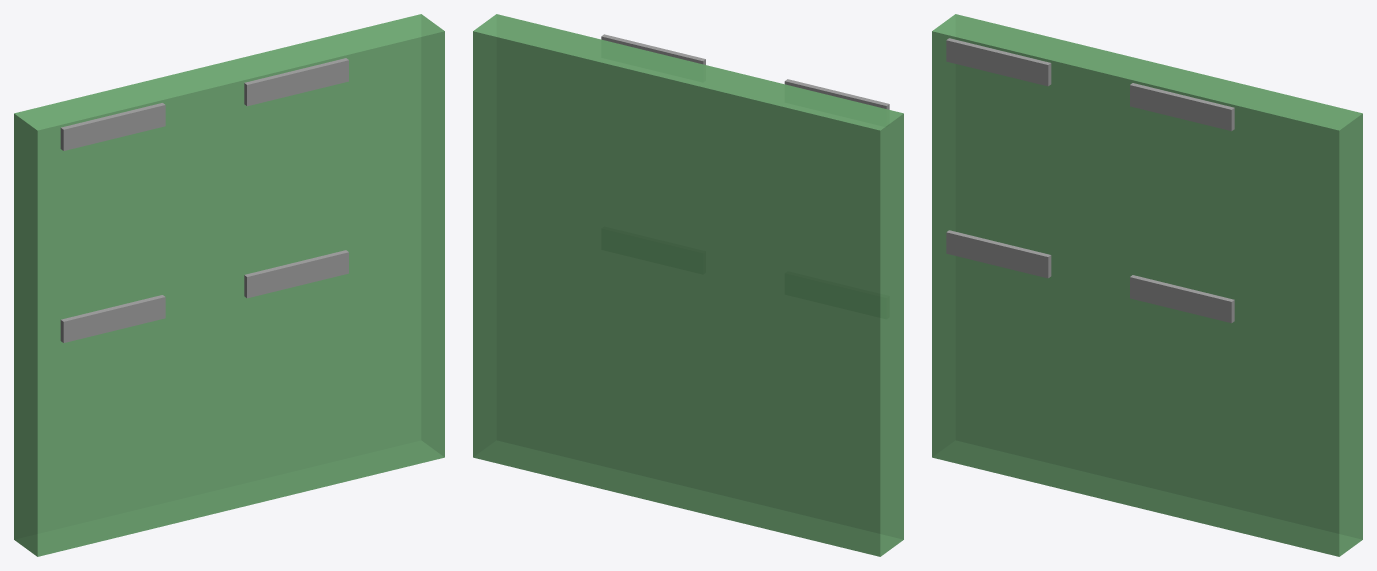
File: board.glb
3 renders of one model, left to right at view 1: azimuth 30°, elevation 25°; view 2: azimuth 150°, elevation 25°; view 3: azimuth 330°, elevation 25°, orthographic.
Parts seen in each view (by area): view 1: Substrate_Layer_0, Component_R1, Component_R3, Component_R4, Component_R2; view 2: Substrate_Layer_0, Component_R1, Component_R2; view 3: Substrate_Layer_0, Component_R1, Component_R3, Component_R2, Component_R4.
Boxes of the visible parts, x1,y1,x2,y2 form: Substrate_Layer_0: [14, 14, 444, 556]; Component_R1: [60, 103, 165, 150]; Component_R3: [60, 295, 165, 342]; Component_R4: [244, 250, 348, 298]; Component_R2: [244, 58, 348, 106]; Substrate_Layer_0: [473, 14, 903, 556]; Component_R1: [784, 79, 889, 109]; Component_R2: [601, 34, 705, 64]; Substrate_Layer_0: [932, 14, 1362, 556]; Component_R1: [946, 38, 1051, 86]; Component_R3: [946, 230, 1051, 278]; Component_R2: [1130, 83, 1234, 131]; Component_R4: [1130, 275, 1234, 323].
Size of the model in its own units: 0.002 by 0.002 by 0.00025.
